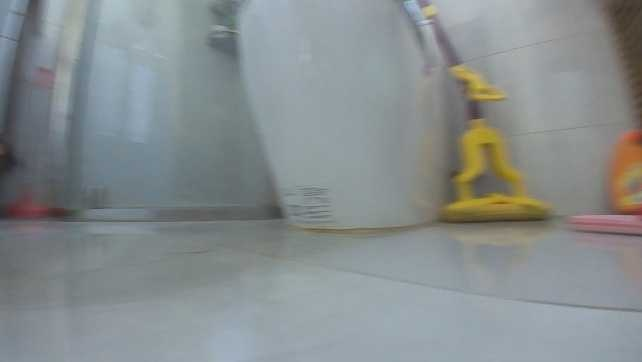toilet: (231, 1, 460, 234)
